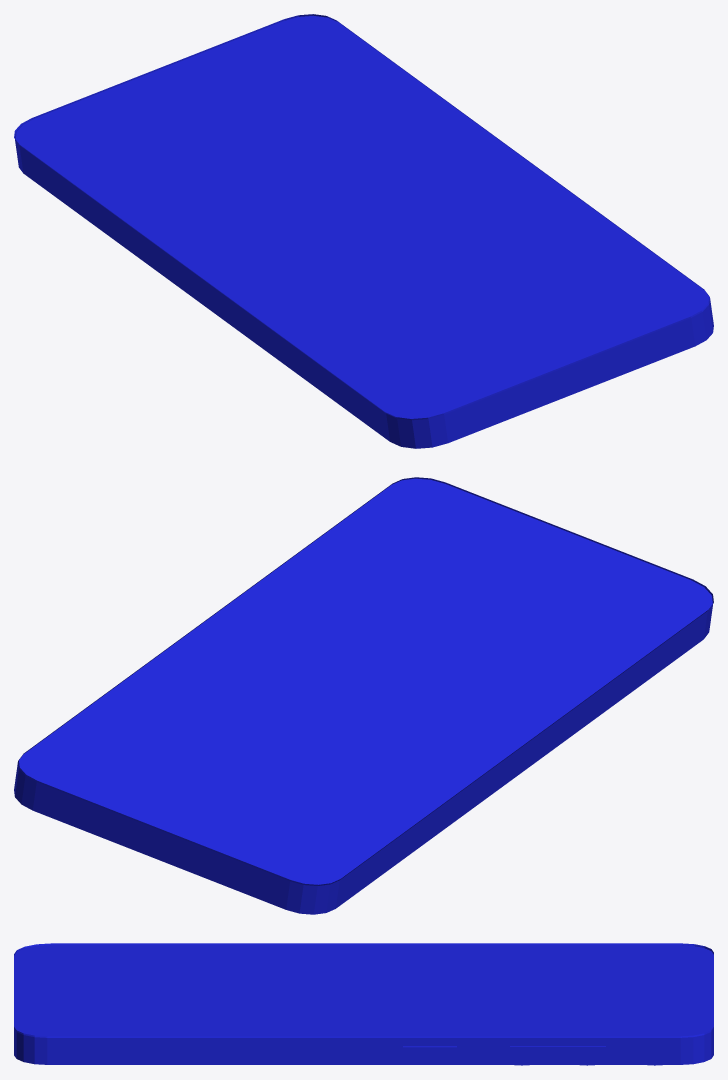
File: Handphone low poly 1.fbx
3 renders of one model, top to bottom at view 1: azimuth 30°, elevation 25°; view 2: azimuth 150°, elevation 25°; view 3: azimuth 270°, elevation 25°, orthographic. The views are drawn at different scales.
Visible parts, largest first — view 1: Phone; view 2: Phone; view 3: Phone.
Part boxes in pixels (x1,y1,x2,y2): Phone: (14,14,713,448); Phone: (14,477,713,914); Phone: (14,943,713,1065).
Bounding box in the file's own units: 114 × 26.17 × 248.
